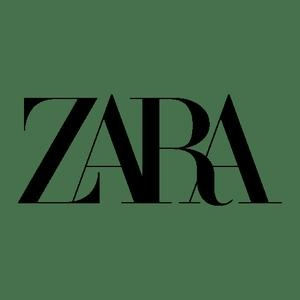zara: (276, 45, 293, 136)
